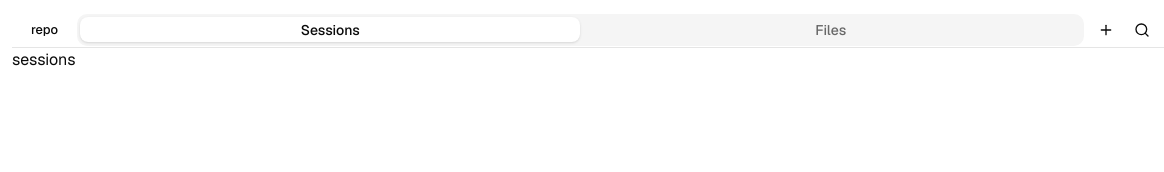
Sidebar（壳） › 默认显示会话标签，切到文件标签后只显示文件槽位
Expected: the text "sessions" is shown, 12,49 -> 76,70
Click the tab "Files" at (831, 30), box 580,17 -> 1081,42
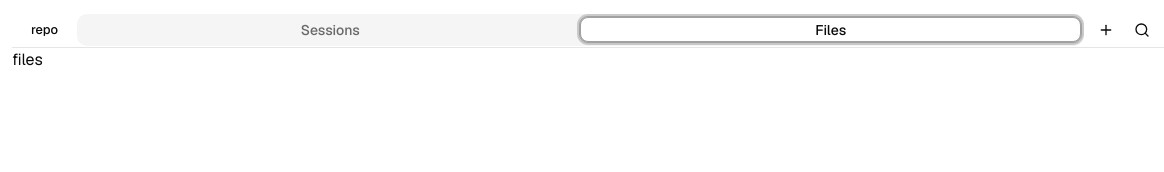
Expected: the text "files" is shown, 12,49 -> 43,70
Expected: the text with test id "sessions-slot" is gone
